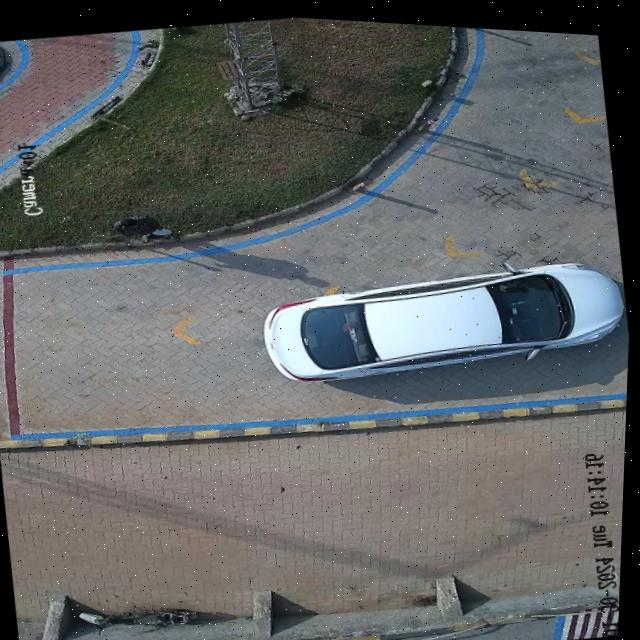car: (264, 259, 626, 378)
